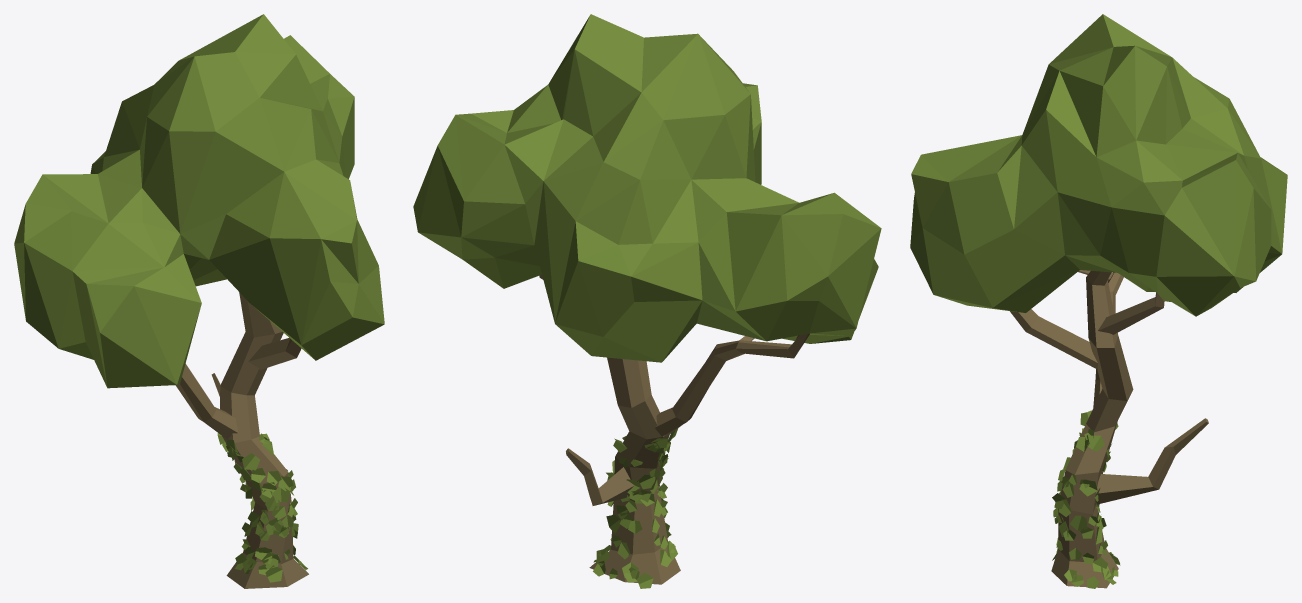
File: Tree_1.fbx
The picture shows the model from 3 angles, left to right: view 1: azimuth 30°, elevation 25°; view 2: azimuth 150°, elevation 25°; view 3: azimuth 270°, elevation 25°; orthographic projection. The views are drawn at different scales.
Visible parts, largest first — view 1: Tree_1; view 2: Tree_1; view 3: Tree_1.
Boxes of the visible parts, x1,y1,x2,y2 form: Tree_1: [14, 14, 384, 588]; Tree_1: [413, 14, 881, 588]; Tree_1: [910, 14, 1287, 588].
Size of the model in its own units: 428 by 589 by 375.
